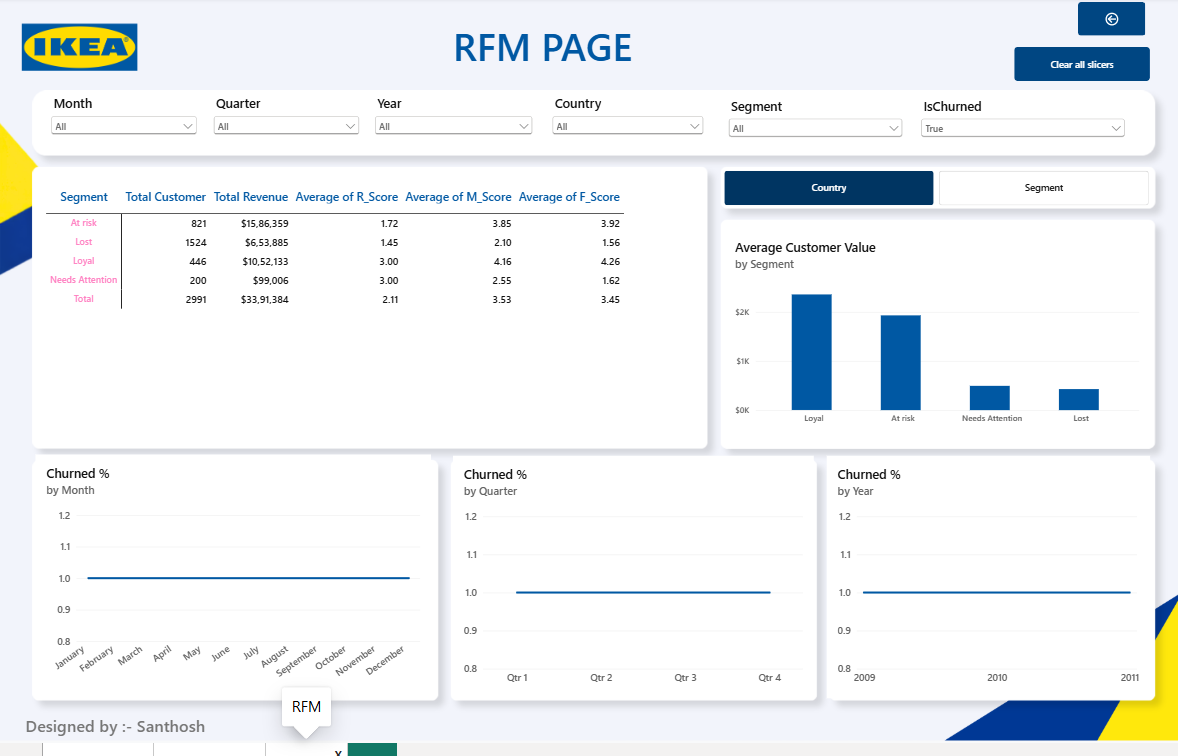

The dashboard page shown, as its layout file describes it:
{"tool":"powerbi","page":{"name":"RFM","canvas":[1750,1100],"ordinal":2},"visuals":[{"type":"slicer","fields":{"Values":["Sheet1.InvoiceDate.Variation.Date Hierarchy.Month"]},"box":[74,144,224,80],"z":0},{"type":"lineChart","fields":{"Y":["Sheet1.Churned %"],"Category":["Sheet1.InvoiceMonth.Variation.Date Hierarchy.Month"]},"box":[55.8,674.2,583.5,360.3],"z":0,"group":"g1"},{"type":"slicer","fields":{"Values":["Sheet1.InvoiceDate.Variation.Date Hierarchy.Quarter"]},"box":[314,144,224,86],"z":1000},{"type":"lineChart","fields":{"Category":["Sheet1.InvoiceMonth.Variation.Date Hierarchy.Quarter"],"Y":["Sheet1.Churned %"]},"box":[671.8,676.5,532.3,358],"z":1000,"group":"g1"},{"type":"slicer","fields":{"Values":["Sheet1.InvoiceDate.Variation.Date Hierarchy.Year"]},"box":[552,144,242,88],"z":2000},{"type":"lineChart","fields":{"Category":["Sheet1.InvoiceMonth.Variation.Date Hierarchy.Year"],"Y":["Sheet1.Churned %"]},"box":[1222.8,676.5,476.6,358],"z":2000,"group":"g1"},{"type":"slicer","fields":{"Values":["Sheet1.Country"]},"box":[812,144,232,88],"z":3000},{"type":"columnChart","fields":{"Category":["Sheet1.Segment"],"Y":["Sheet1.Average Customer Value"]},"box":[1071.7,339.4,627.7,309.2],"z":3000,"group":"g1"},{"type":"slicer","fields":{"Values":["Sheet1.Segment"]},"box":[1072,148,266,84],"z":4000},{"type":"pivotTable","fields":{"Values":["Sheet1.Total Customer","Sheet1.Total Revenue","Avg(Sheet1.R_Score)","Avg(Sheet1.M_Score)","Avg(Sheet1.F_Score)"],"Rows":["Sheet1.Segment"]},"box":[55.8,262.7,988,385.9],"z":4000,"group":"g1"},{"type":"slicer","fields":{"Values":["Sheet1.IsChurned"]},"box":[1356,148,310,76],"z":5000},{"type":"image","box":[0,0,241,148.1],"z":6000},{"type":"group","id":"g1","title":"Segment","box":[55.8,262.7,1643.5,771.8],"z":8000},{"type":"bookmarkNavigator","box":[1070.9,256.2,626.7,51.6],"z":9000},{"type":"actionButton","box":[1592.5,7.4,99.5,49.8],"z":10000},{"type":"actionButton","box":[1498.5,73.7,200,50],"z":11000},{"type":"textbox","box":[670.9,33.2,328.1,114.3],"z":12000},{"type":"textbox","box":[40.5,1058,541.9,42.4],"z":13000}]}

Visuals, with their boxes in screenshot pixels (x1, y1, x2, y2), scaled from the page's 1750x1100 canvas onto the 1178x756 screenshot:
slicer - Sheet1.InvoiceDate.Variation.Date Hierarchy.Month: bbox=[50, 99, 201, 154]
lineChart - Sheet1.Churned % x Sheet1.InvoiceMonth.Variation.Date Hierarchy.Month: bbox=[38, 463, 430, 711]
slicer - Sheet1.InvoiceDate.Variation.Date Hierarchy.Quarter: bbox=[211, 99, 362, 158]
lineChart - Sheet1.InvoiceMonth.Variation.Date Hierarchy.Quarter x Sheet1.Churned %: bbox=[452, 465, 811, 711]
slicer - Sheet1.InvoiceDate.Variation.Date Hierarchy.Year: bbox=[372, 99, 534, 159]
lineChart - Sheet1.InvoiceMonth.Variation.Date Hierarchy.Year x Sheet1.Churned %: bbox=[823, 465, 1144, 711]
slicer - Sheet1.Country: bbox=[547, 99, 703, 159]
columnChart - Sheet1.Segment x Sheet1.Average Customer Value: bbox=[721, 233, 1144, 446]
slicer - Sheet1.Segment: bbox=[722, 102, 901, 159]
pivotTable - Sheet1.Total Customer x Sheet1.Total Revenue: bbox=[38, 181, 703, 446]
slicer - Sheet1.IsChurned: bbox=[913, 102, 1121, 154]
image: bbox=[0, 0, 162, 102]
"Segment" group: bbox=[38, 181, 1144, 711]
bookmarkNavigator: bbox=[721, 176, 1143, 212]
actionButton: bbox=[1072, 5, 1139, 39]
actionButton: bbox=[1009, 51, 1143, 85]
textbox: bbox=[452, 23, 672, 101]
textbox: bbox=[27, 727, 392, 755]
